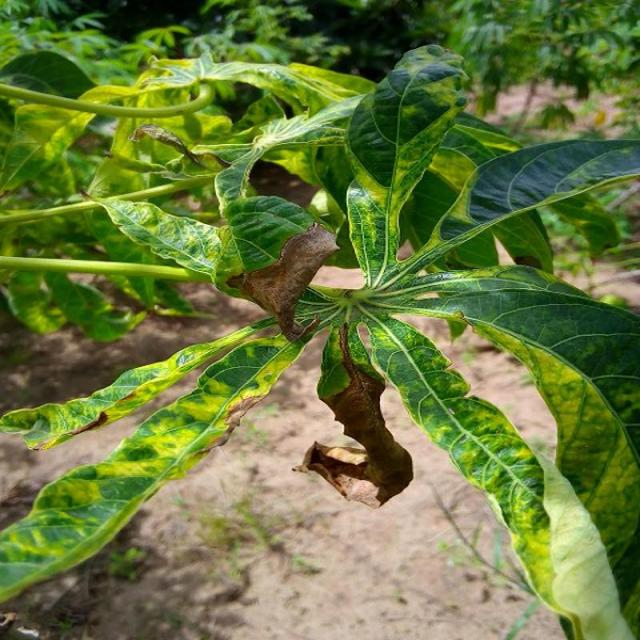cassava leaf: (2, 42, 640, 636)
